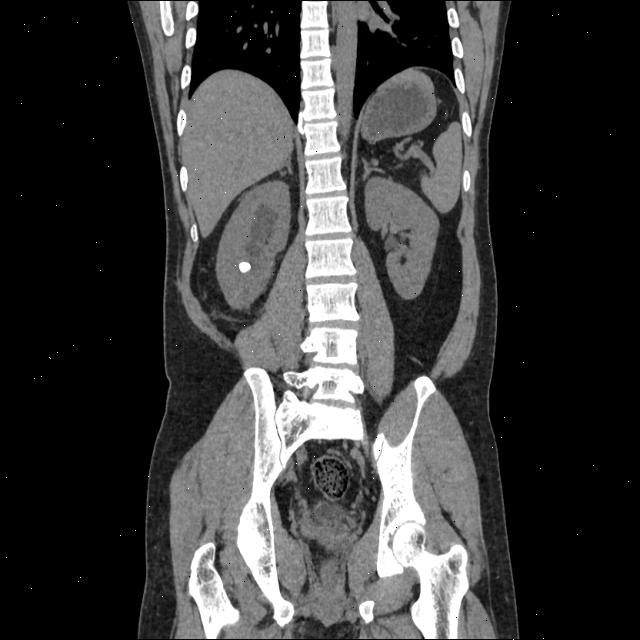kidneystone: (239, 262, 251, 273)
